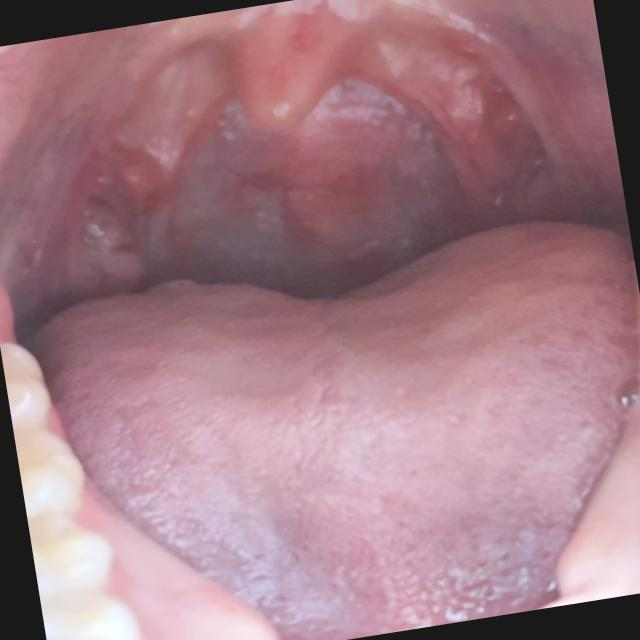Non Pharyngitis: (12, 0, 597, 338)
